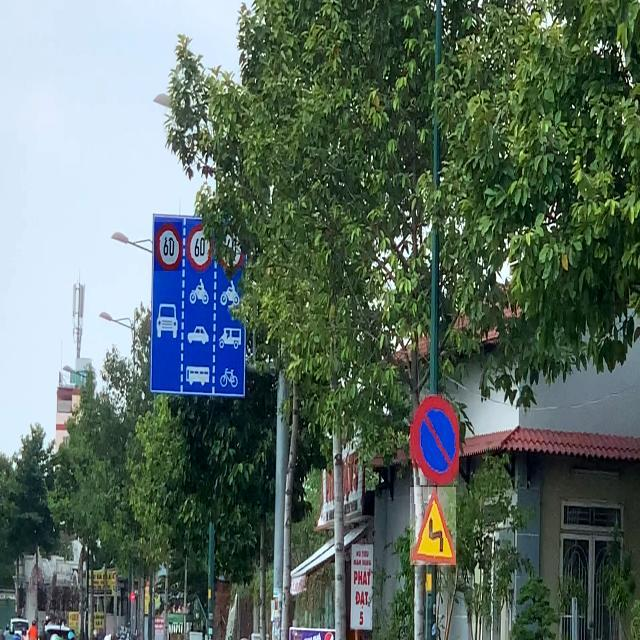P-127: (154, 222, 182, 271), (187, 224, 213, 272)
P-131a: (410, 394, 459, 485)
W-202a: (410, 488, 456, 566)
